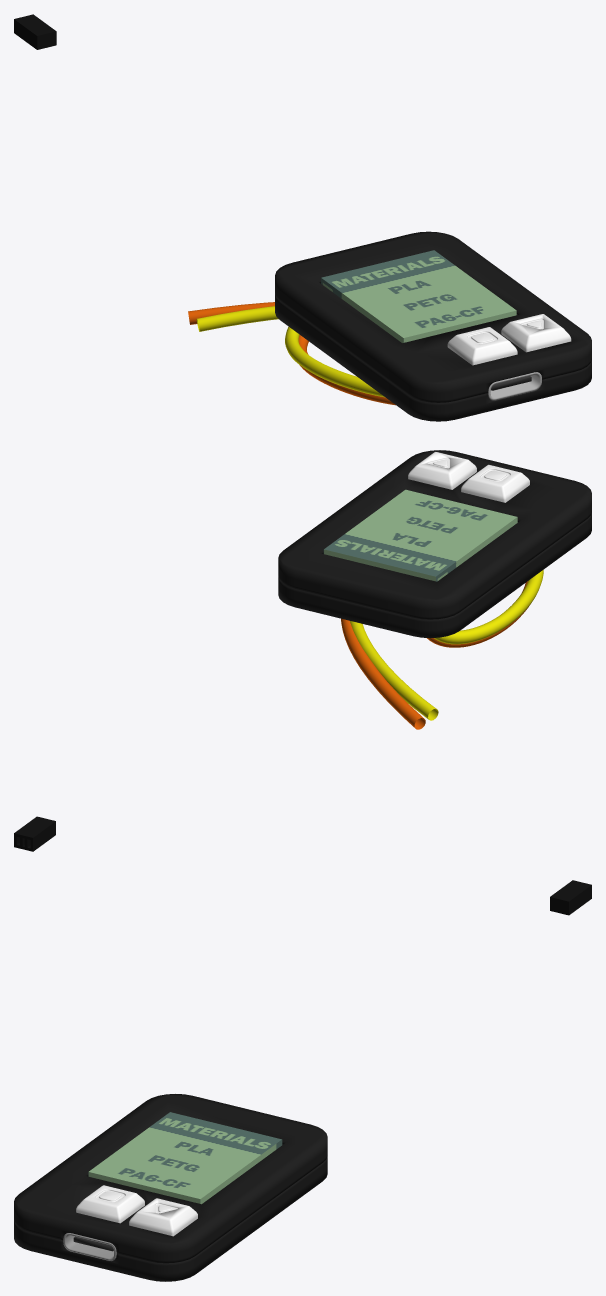
The model's file is miniDeviceV2.glb.
The picture shows the model from 3 angles, top to bottom: view 1: azimuth 30°, elevation 25°; view 2: azimuth 150°, elevation 25°; view 3: azimuth 330°, elevation 25°; orthographic projection.
Visible parts, largest first — view 1: topCover.001, display, bottomCover, NurbsPath.001, buttomEnter, buttomSelect, NurbsPath, usbC, Cube; view 2: topCover.001, display, bottomCover, NurbsPath.001, NurbsPath, buttomEnter, buttomSelect, Cube; view 3: topCover.001, display, bottomCover, buttomSelect, buttomEnter, usbC, Cube.001.
Part boxes in pixels (x1,y1,x2,y2): topCover.001: (275, 231, 591, 402); display: (321, 250, 516, 342); bottomCover: (275, 294, 591, 421); NurbsPath.001: (196, 306, 385, 397); buttomEnter: (447, 327, 517, 365); buttomSelect: (501, 314, 571, 352); NurbsPath: (188, 302, 395, 405); usbC: (488, 372, 541, 400); Cube: (14, 16, 50, 49); topCover.001: (278, 450, 591, 619); display: (323, 489, 517, 581); bottomCover: (278, 512, 591, 637); NurbsPath.001: (350, 570, 543, 720); NurbsPath: (341, 581, 530, 729); buttomEnter: (461, 464, 529, 502); buttomSelect: (408, 452, 476, 489); Cube: (20, 818, 55, 851); topCover.001: (14, 1094, 327, 1263); display: (88, 1112, 282, 1204); bottomCover: (14, 1156, 327, 1281); buttomSelect: (129, 1198, 197, 1236); buttomEnter: (76, 1185, 144, 1223); usbC: (63, 1233, 116, 1260); Cube.001: (555, 882, 591, 915).
Bounding box in the file's own units: 3.5 × 1.53 × 14.38.
Materials: 11 (1 with a texture image).
